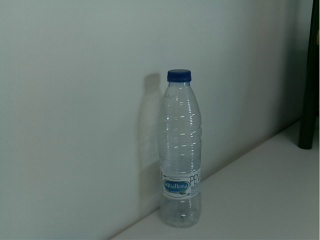botella plastico: (154, 67, 206, 230)
